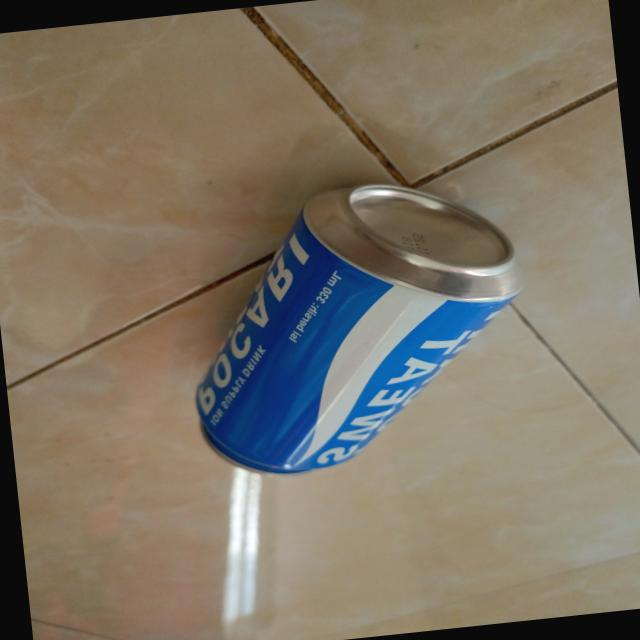pocari-sweat: (172, 166, 534, 482)
